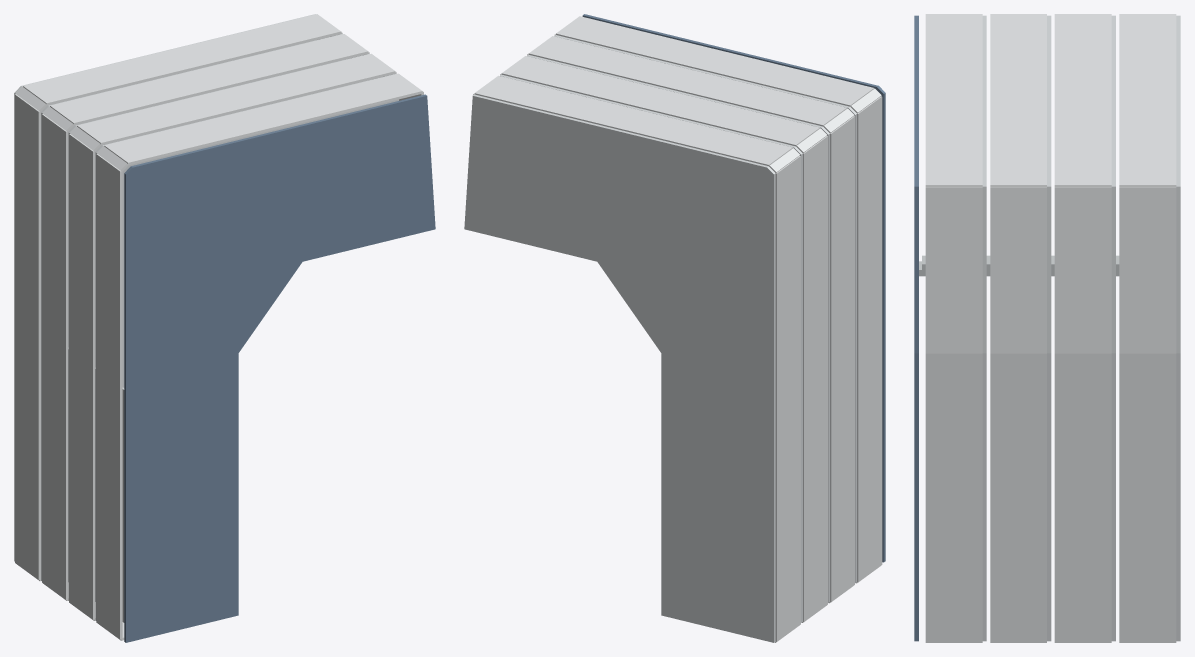
The model's file is AIML_Building4_Standalone.glb.
3 renders of one model, left to right at view 1: azimuth 30°, elevation 25°; view 2: azimuth 150°, elevation 25°; view 3: azimuth 270°, elevation 25°, orthographic. The views are drawn at different scales.
Visible parts, largest first — view 1: AIML | ROOF | toggle for interior view, AIML | FLOOR 3 | exterior wall 7, AIML | FLOOR 1 | exterior wall 7, AIML | FLOOR 2 | exterior wall 7, AIML | FLOOR G | exterior wall 7, AIML | FLOOR G | exterior wall 1, AIML | FLOOR 1 | exterior wall 1, AIML | FLOOR 2 | exterior wall 1, AIML | FLOOR 3 | exterior wall 1, AIML | FLOOR 3 | slab, AIML | FLOOR 2 | slab, AIML | FLOOR 1 | slab (+1 smaller); view 2: AIML | FLOOR G | slab, AIML | FLOOR 3 | exterior wall 7, AIML | FLOOR G | exterior wall 7, AIML | FLOOR 1 | exterior wall 7, AIML | FLOOR 2 | exterior wall 7, AIML | FLOOR 2 | exterior wall 1, AIML | FLOOR G | exterior wall 1, AIML | FLOOR 3 | exterior wall 1, AIML | FLOOR 1 | exterior wall 1, AIML | ROOF | toggle for interior view, AIML | FLOOR 3 | slab, AIML | FLOOR 2 | slab (+1 smaller); view 3: AIML | FLOOR G | exterior wall 5, AIML | FLOOR 1 | exterior wall 5, AIML | FLOOR 3 | exterior wall 5, AIML | FLOOR 2 | exterior wall 5, AIML | FLOOR G | exterior wall 1, AIML | FLOOR 1 | exterior wall 1, AIML | FLOOR 3 | exterior wall 1, AIML | FLOOR 2 | exterior wall 1, AIML | FLOOR G | exterior wall 2, AIML | FLOOR 1 | exterior wall 2, AIML | FLOOR 3 | exterior wall 2, AIML | FLOOR 2 | exterior wall 2 (+5 smaller).
Part boxes in pixels (x1,y1,x2,y2): AIML | ROOF | toggle for interior view: (124,94,435,642); AIML | FLOOR 3 | exterior wall 7: (96,153,122,639); AIML | FLOOR 1 | exterior wall 7: (42,114,68,599); AIML | FLOOR 2 | exterior wall 7: (69,134,95,619); AIML | FLOOR G | exterior wall 7: (15,94,41,579); AIML | FLOOR G | exterior wall 1: (23,14,341,105); AIML | FLOOR 1 | exterior wall 1: (50,34,368,125); AIML | FLOOR 2 | exterior wall 1: (77,53,395,145); AIML | FLOOR 3 | exterior wall 1: (104,73,422,165); AIML | FLOOR 3 | slab: (95,73,398,620); AIML | FLOOR 2 | slab: (68,53,369,600); AIML | FLOOR 1 | slab: (41,34,342,580); AIML | FLOOR G | slab: (464,94,775,642); AIML | FLOOR 3 | exterior wall 7: (857,96,882,582); AIML | FLOOR G | exterior wall 7: (775,156,800,641); AIML | FLOOR 1 | exterior wall 7: (803,136,827,621); AIML | FLOOR 2 | exterior wall 7: (830,116,854,601); AIML | FLOOR 2 | exterior wall 1: (528,36,846,126); AIML | FLOOR G | exterior wall 1: (474,75,792,166); AIML | FLOOR 3 | exterior wall 1: (556,16,874,106); AIML | FLOOR 1 | exterior wall 1: (501,56,819,146); AIML | ROOF | toggle for interior view: (582,14,885,562); AIML | FLOOR 3 | slab: (554,35,856,583); AIML | FLOOR 2 | slab: (527,55,829,602); AIML | FLOOR G | exterior wall 5: (1119,354,1176,641); AIML | FLOOR 1 | exterior wall 5: (1054,354,1111,641); AIML | FLOOR 3 | exterior wall 5: (925,354,982,641); AIML | FLOOR 2 | exterior wall 5: (990,354,1046,641); AIML | FLOOR G | exterior wall 1: (1119,14,1176,186); AIML | FLOOR 1 | exterior wall 1: (1054,14,1111,186); AIML | FLOOR 3 | exterior wall 1: (925,14,982,186); AIML | FLOOR 2 | exterior wall 1: (990,14,1046,186); AIML | FLOOR G | exterior wall 2: (1119,186,1176,353); AIML | FLOOR 1 | exterior wall 2: (1054,186,1111,353); AIML | FLOOR 3 | exterior wall 2: (925,186,982,353); AIML | FLOOR 2 | exterior wall 2: (990,186,1046,353).
Bounding box in the file's own units: 22.26 × 32.46 × 13.8.
